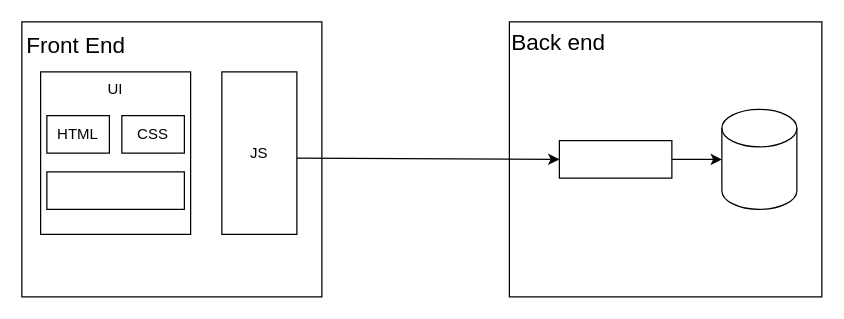
Image size: 844x319. Some labels were removed from this diagram. The shapes that lost their labels are listed below. From the top down, each one's centre as x and y in pixels, then its label:
At point 615,158: "EXPRESSJS".
At point 759,158: "MYSQL".
At point 115,190: "BOOTSTRAPJS".
